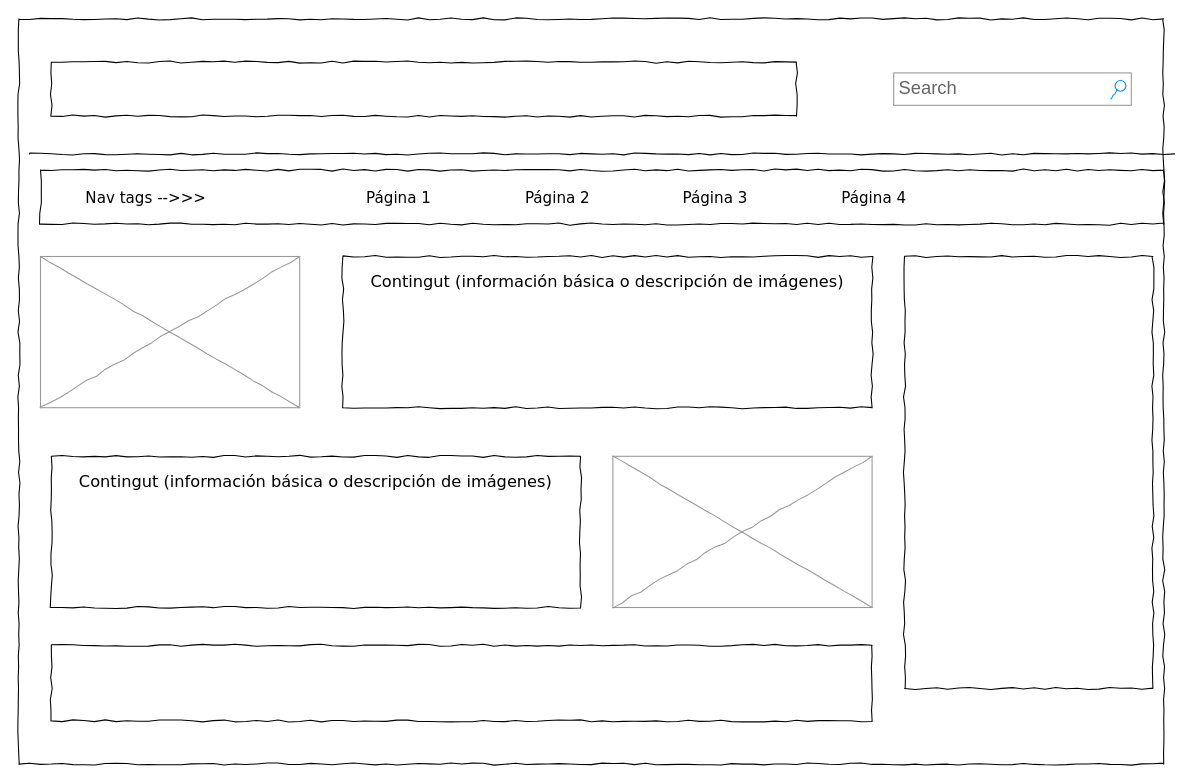
The diagram is 1193 pixels wide and 783 high, and some of its shapes have lost their labels. Each missing label, with the box of its shape:
Aprende Castellano: (50, 61, 796, 116)
Aquí pondré enlaces de otros sitio relacionados o cursos presenciales.: (903, 255, 1153, 688)
